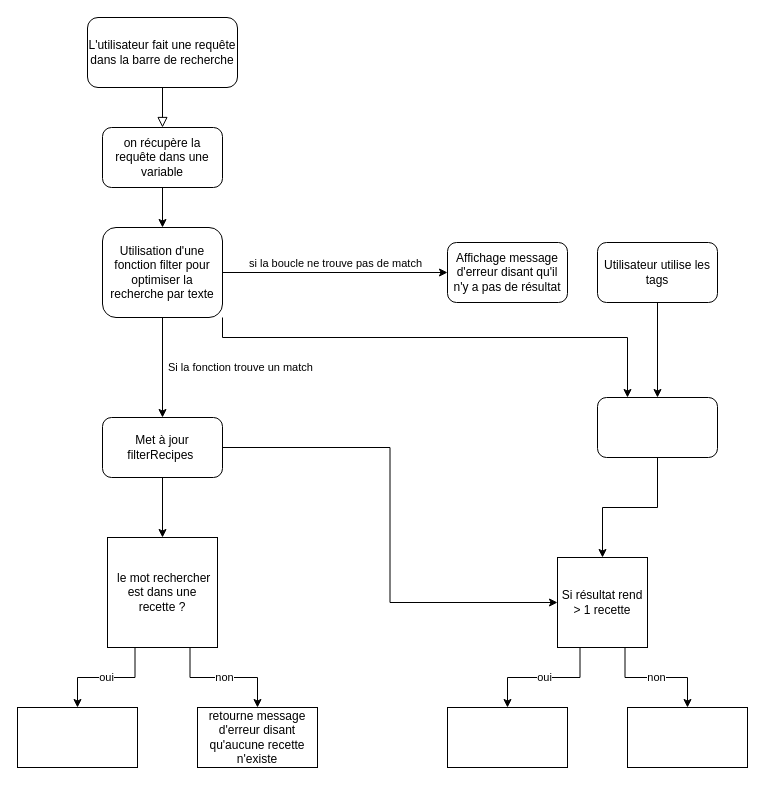
Some shapes in this 765 by 785 pixel diagram are drawn without their labels. The centre of each missing label's shape, as x and y in pixels:
Affichage des recettes correspondantes: the point at 507,737
Affichage message d'erreur: the point at 687,737
afficher les recettes en lien avec le mot: the point at 77,737
Filtre des recettes avec les tags utilisés: the point at 657,427
